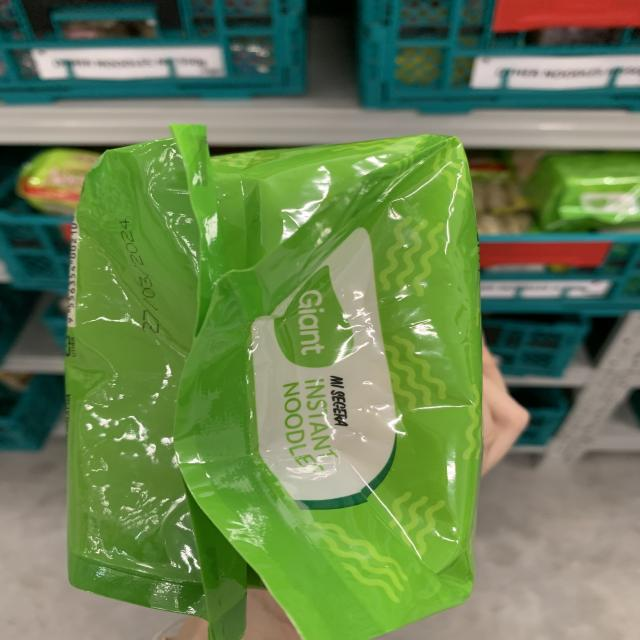object_name: (91, 151, 472, 613)
